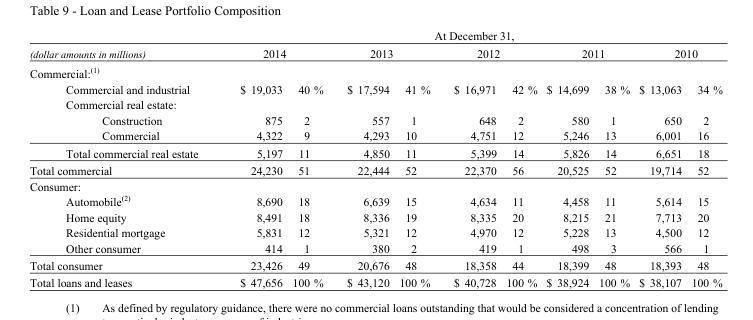table: (28, 28, 721, 288)
table column: (28, 28, 218, 288), (218, 28, 286, 288), (334, 28, 393, 288), (441, 28, 500, 288), (633, 28, 686, 288), (541, 28, 593, 288), (286, 28, 334, 288), (393, 28, 441, 288), (500, 28, 541, 288), (593, 28, 633, 288), (686, 28, 721, 288)
table column header: (28, 28, 721, 62)
table projected row header: (28, 62, 721, 80), (28, 96, 721, 111), (28, 177, 721, 192)
table row: (28, 44, 721, 62), (28, 62, 721, 80), (28, 143, 721, 161), (28, 239, 721, 256), (28, 256, 721, 273), (28, 28, 721, 44), (28, 80, 721, 96), (28, 111, 721, 127), (28, 127, 721, 143), (28, 161, 721, 177), (28, 192, 721, 208), (28, 208, 721, 224), (28, 96, 721, 111), (28, 177, 721, 192), (28, 224, 721, 239), (28, 273, 721, 288)
table spanning cell: (218, 28, 721, 44), (28, 28, 218, 62), (218, 44, 334, 62), (334, 44, 441, 62), (441, 44, 541, 62), (541, 44, 633, 62), (633, 44, 721, 62)
